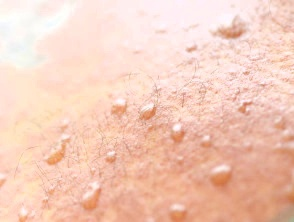SJS-TEN: (0, 14, 292, 222)
